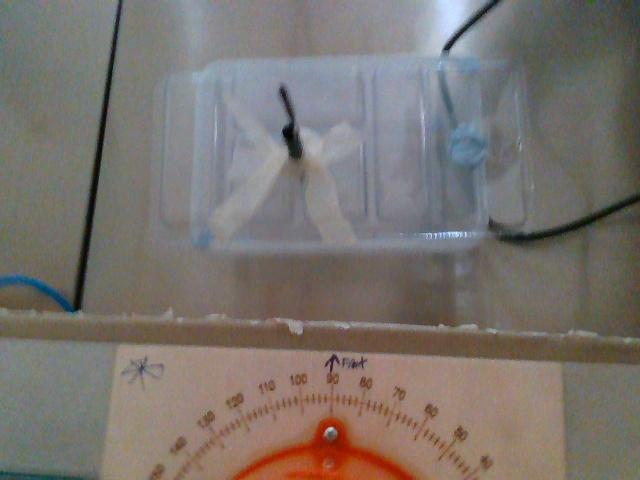test_strip: (275, 82, 298, 135)
